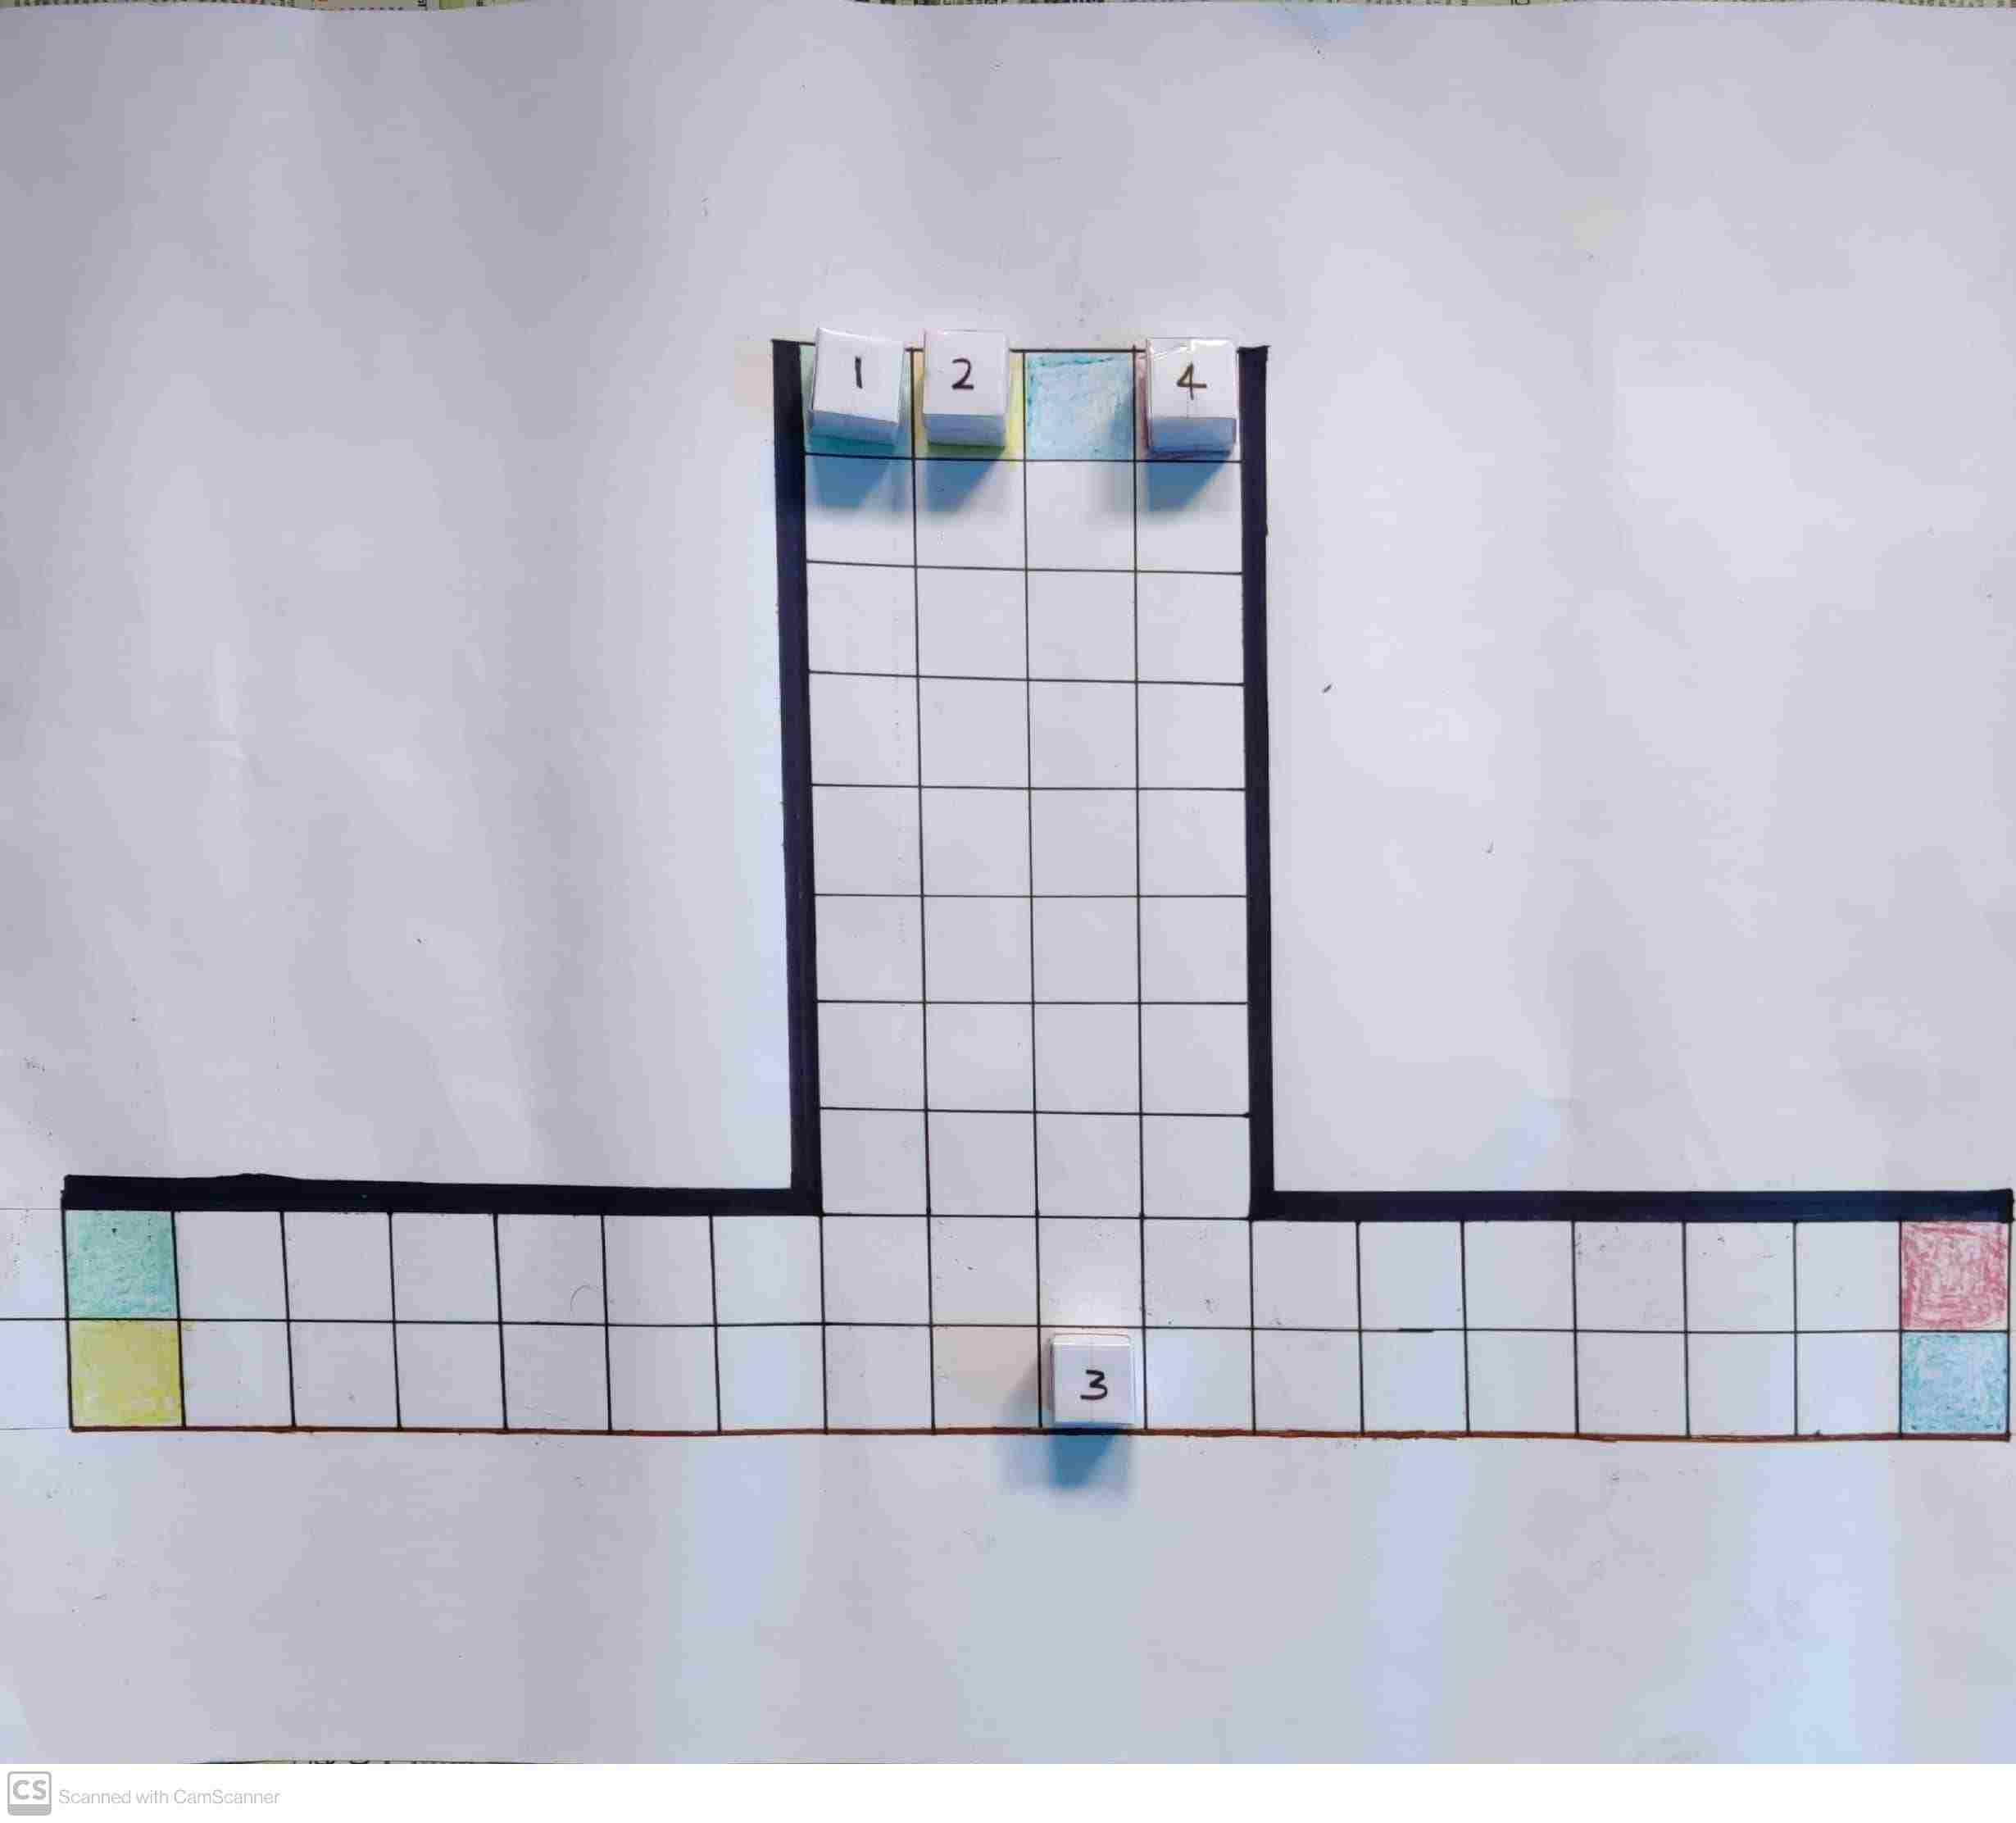arena: (63, 344, 2014, 1438)
bot: (818, 332, 901, 420), (927, 332, 1006, 416), (1147, 346, 1235, 416), (1057, 1342, 1129, 1426)
